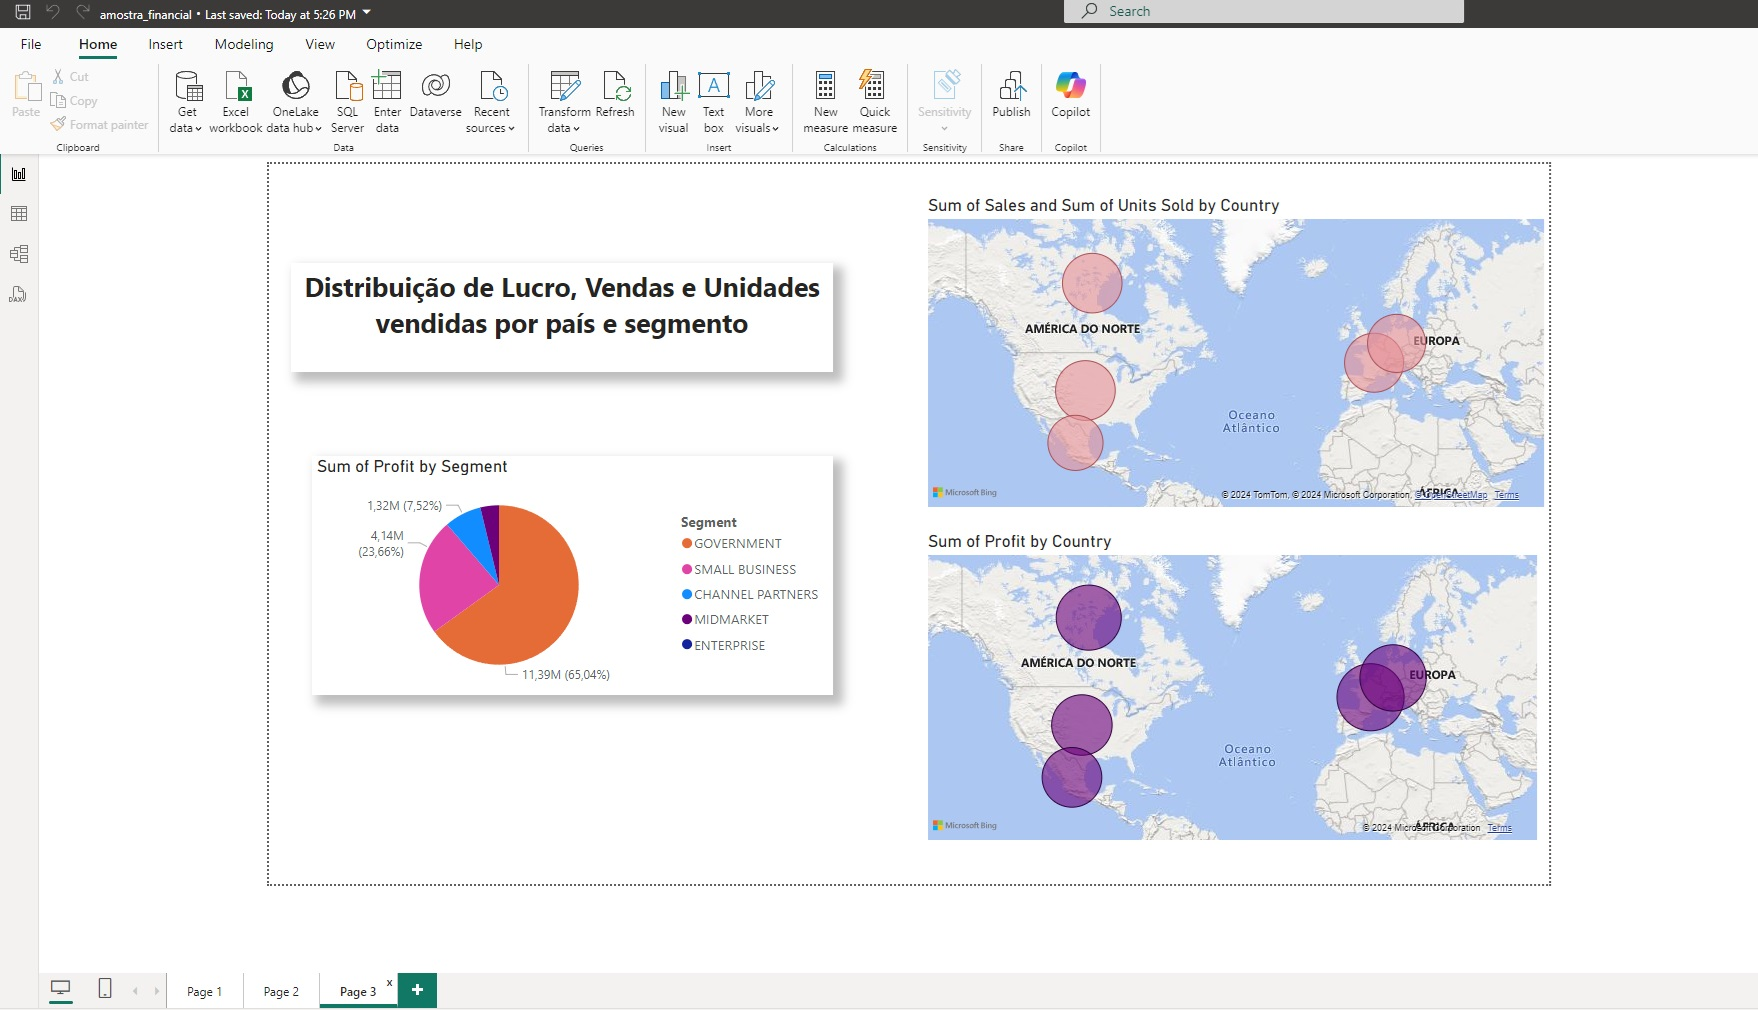

The page's visual inventory and layout, read from the dashboard file:
{"tool":"powerbi","page":{"name":"Page 3","canvas":[1280,720],"ordinal":2},"visuals":[{"type":"textbox","box":[22.4,99.4,541.8,108.4],"z":0},{"type":"pieChart","fields":{"Category":["financials.Segment"],"Y":["Sum(financials.Profit)"]},"box":[43,291.9,521.2,239.1],"z":1},{"type":"map","fields":{"Category":["financials.Country"],"Size":["Sum(financials. Sales)"]},"box":[653.7,31.3,626,317],"z":2},{"type":"map","fields":{"Category":["financials.Country"],"Size":["Sum(financials.Profit)"]},"box":[653.7,367.2,619.7,313.4],"z":3}]}

Visuals, with their boxes on the page's 1280x720 design canvas (x1, y1, x2, y2). These are canvas units, not pixel positions in the 1758x1010 screenshot, which may show the page scaled, cropped or inside an application window:
textbox: {"left": 22, "top": 99, "right": 564, "bottom": 208}
pieChart - financials.Segment x Sum(financials.Profit): {"left": 43, "top": 292, "right": 564, "bottom": 531}
map - financials.Country x Sum(financials. Sales): {"left": 654, "top": 31, "right": 1280, "bottom": 348}
map - financials.Country x Sum(financials.Profit): {"left": 654, "top": 367, "right": 1273, "bottom": 681}
